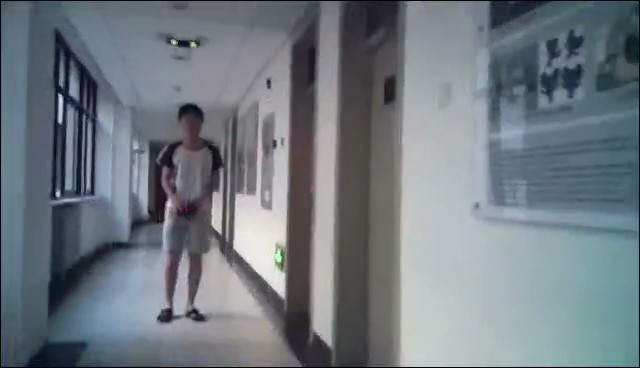drone: (154, 30, 213, 58)
person: (154, 100, 223, 322)
